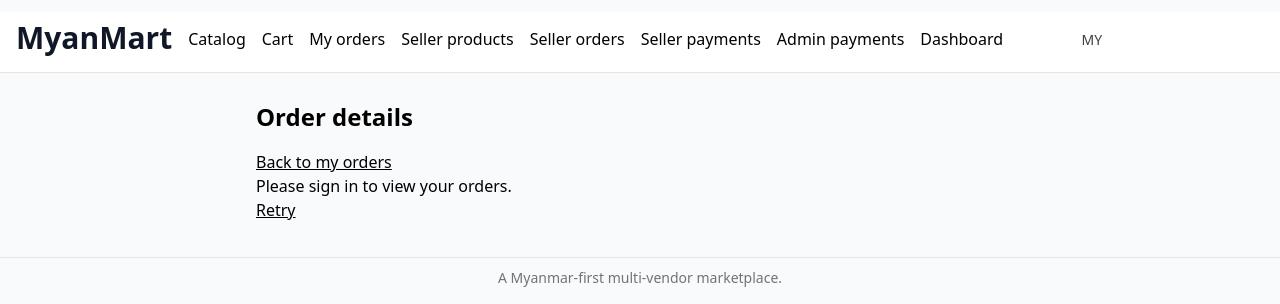
buyer orders › shows sign-in and not-found failures with retry
The width and height of the screenshot is (1280, 304).
Expected: the message shows "Please sign in", [256,171,512,206]
Click the button "Retry".
click(276, 213)  # box [256,201,296,225]
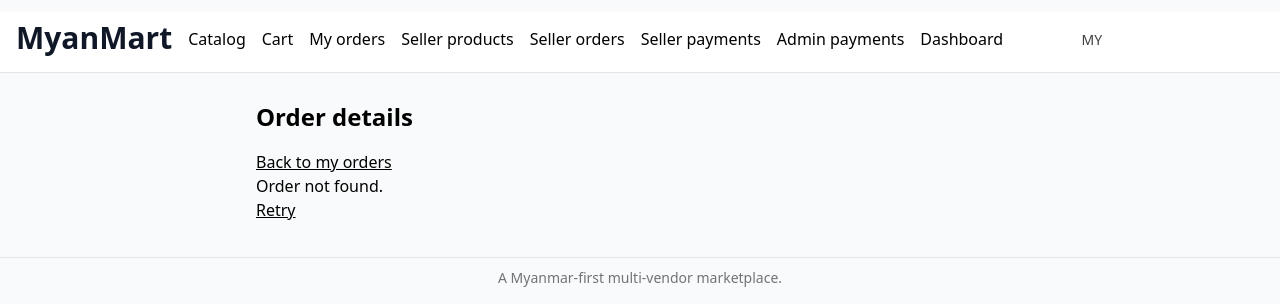
Expected: the message shows "Order not found.", [256,171,383,206]
